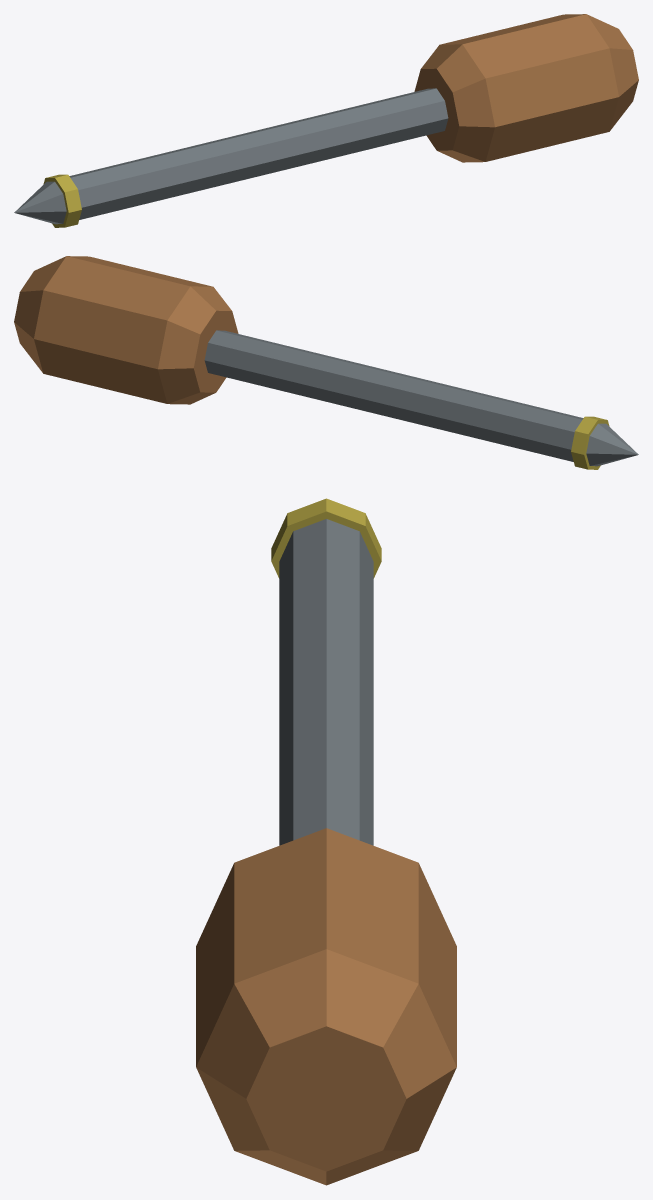
Rendered from ChavePhilipsLowPoly.fbx.
The picture shows the model from 3 angles, top to bottom: view 1: azimuth 30°, elevation 25°; view 2: azimuth 150°, elevation 25°; view 3: azimuth 270°, elevation 25°; orthographic projection. The views are drawn at different scales.
Parts seen in each view (by area): view 1: Cylinder; view 2: Cylinder; view 3: Cylinder.
Part boxes in pixels (x1=…): Cylinder: x1=14, y1=14, x2=638, y2=227; Cylinder: x1=14, y1=256, x2=638, y2=469; Cylinder: x1=196, y1=498, x2=456, y2=1185.
Size of the model in its own units: 1071 by 200 by 200.
